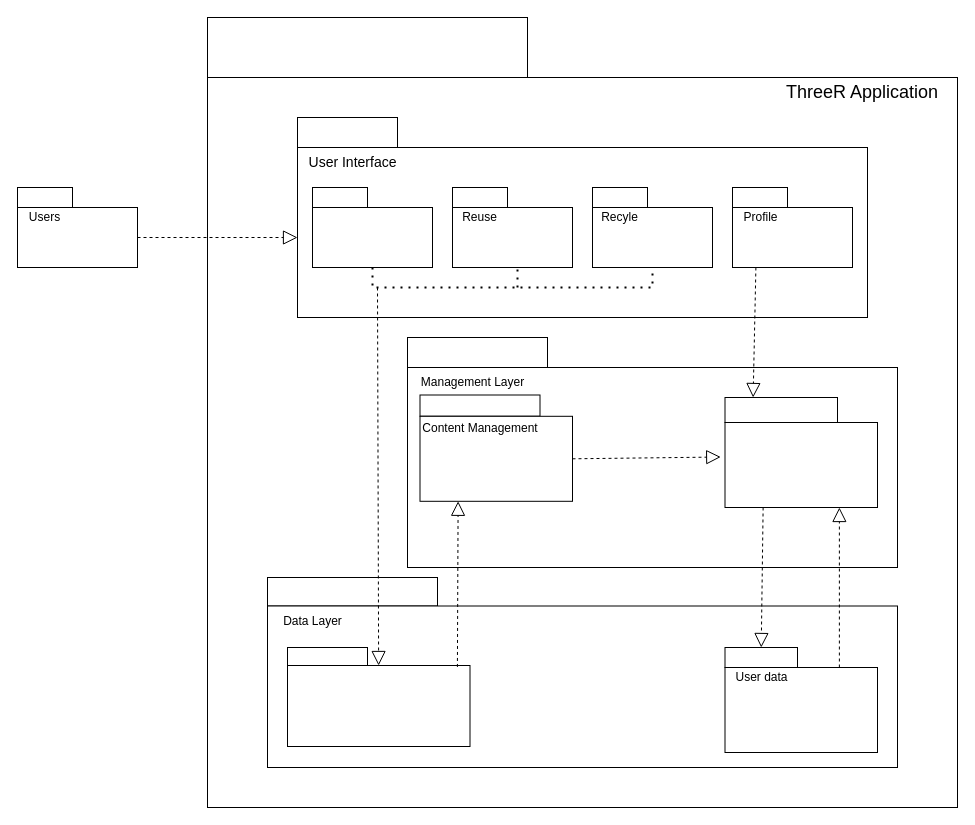
This 975x825 diagram has some shape labels left out. The shapes that lost their labels are listed below. From the top down, each one's centre as x and y in pixels, then its label:
At [372,237]: "Reduce".
At [801,465]: "User management".
At [378,705]: "Content data".
